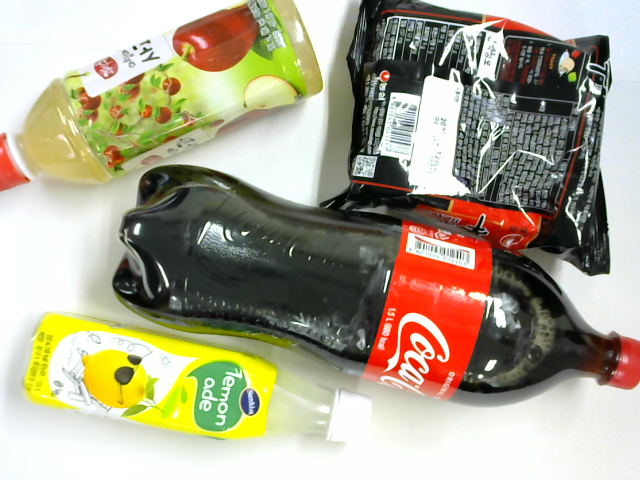Morning_Apple_500ml: (112, 164, 640, 408), (1, 1, 323, 196)
Sinramen_Black: (318, 1, 613, 276)
Sunkist_Lemonaid_Pet: (22, 313, 371, 448)
